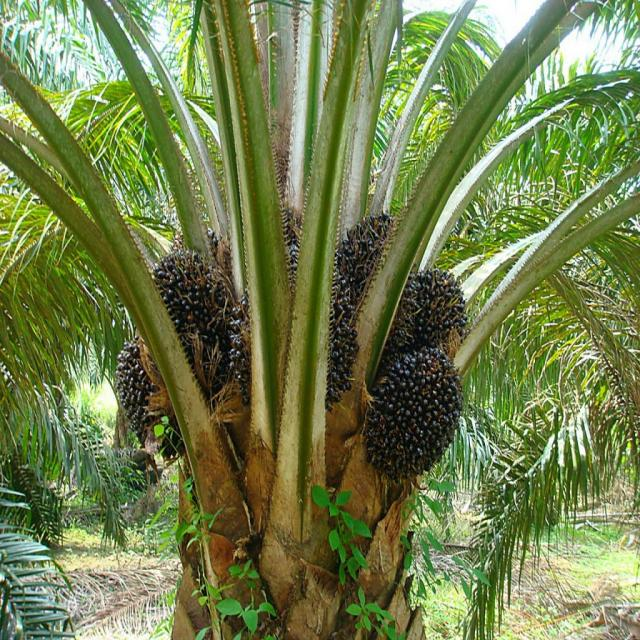FFB: (374, 351, 459, 488), (154, 256, 234, 389), (386, 272, 470, 371), (120, 342, 181, 445)
